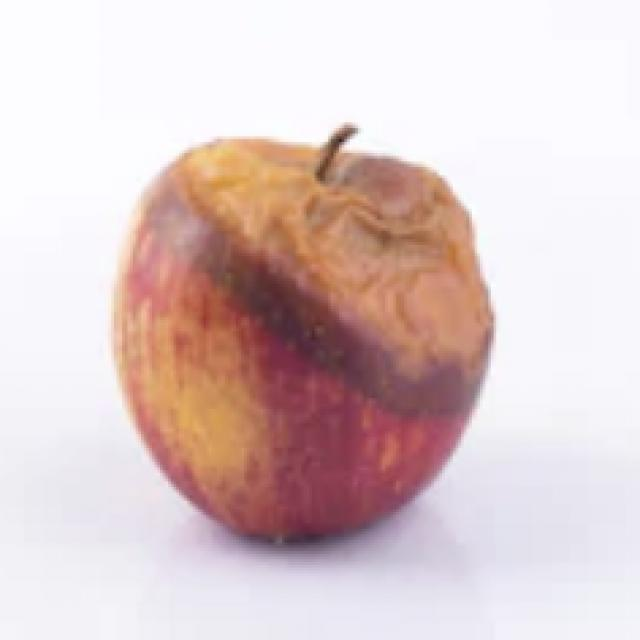Rotten: (106, 128, 496, 542)
